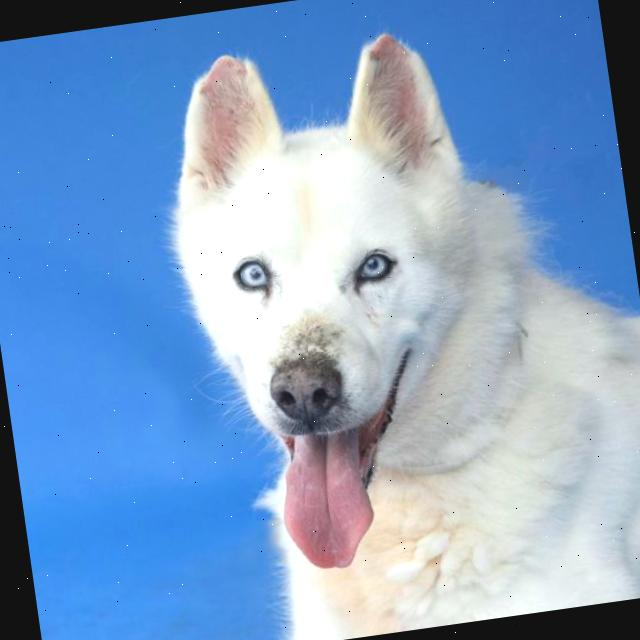siberian_husky_dog: (143, 2, 558, 610)
